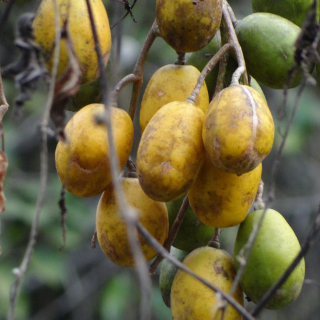coc: (202, 85, 275, 175)
